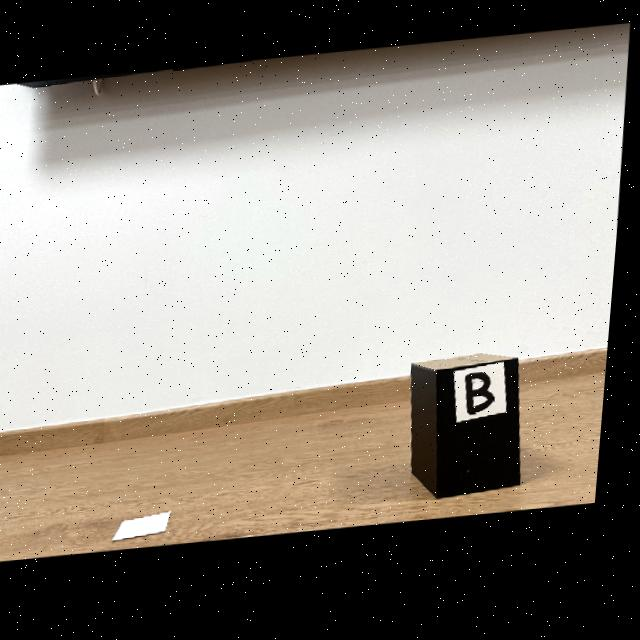B: (472, 381, 501, 422)
